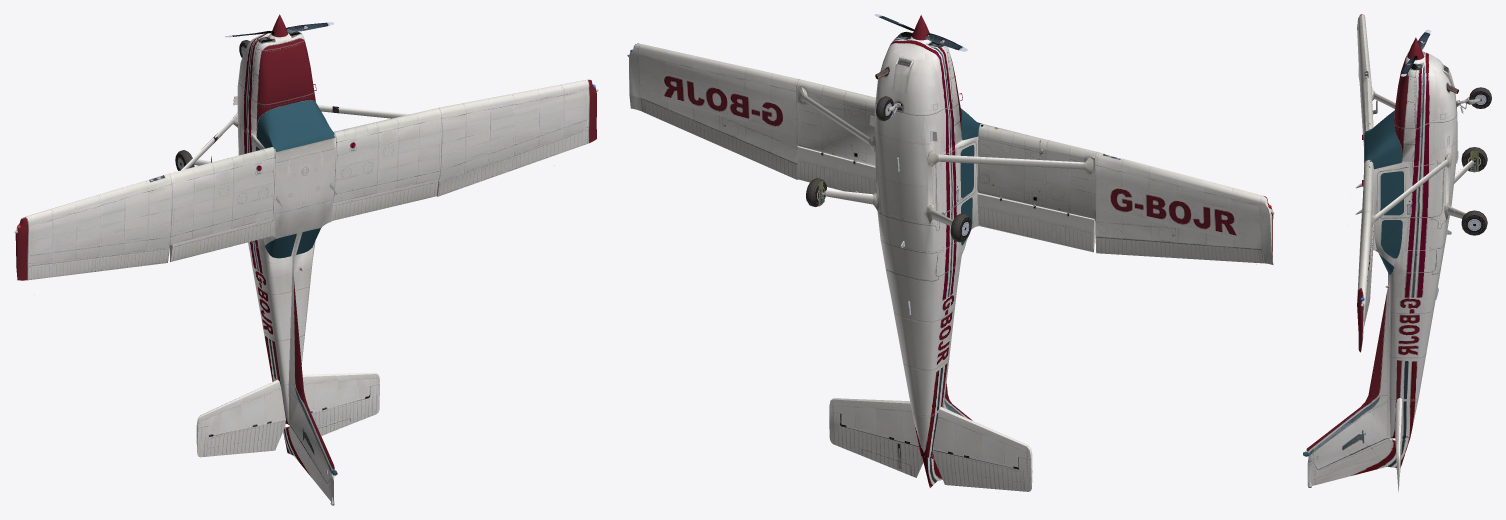
The picture shows the model from 3 angles, left to right: view 1: azimuth 30°, elevation 25°; view 2: azimuth 150°, elevation 25°; view 3: azimuth 270°, elevation 25°; orthographic projection. The views are drawn at different scales.
Visible parts, largest first — view 1: cessna_172_43, cessna_172_42; view 2: cessna_172_43, cessna_172_42; view 3: cessna_172_43, cessna_172_42.
Boxes of the visible parts, bbox=[...] form: cessna_172_43: bbox=[14, 14, 598, 505]; cessna_172_42: bbox=[256, 100, 337, 475]; cessna_172_43: bbox=[627, 14, 1274, 491]; cessna_172_42: bbox=[960, 108, 981, 245]; cessna_172_43: bbox=[1306, 14, 1491, 492]; cessna_172_42: bbox=[1303, 110, 1403, 456].
Size of the model in its own units: 11.12 by 8.28 by 3.13.
Materials: 3 (1 with a texture image).
